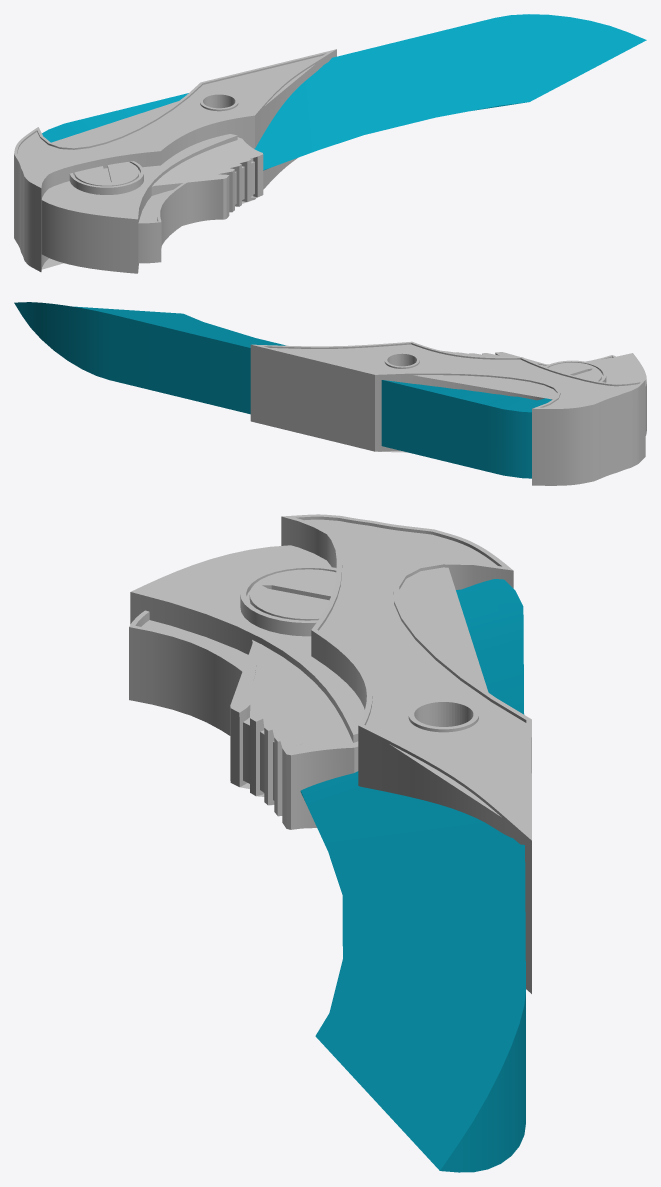
File: flipper_knife_left.obj
3 renders of one model, top to bottom at view 1: azimuth 30°, elevation 25°; view 2: azimuth 150°, elevation 25°; view 3: azimuth 270°, elevation 25°, orthographic. The views are drawn at different scales.
Parts seen in each view (by area): view 1: Slim_Left_Flipper_Cylinder.001; view 2: Slim_Left_Flipper_Cylinder.001; view 3: Slim_Left_Flipper_Cylinder.001.
Boxes of the visible parts, <box> form: Slim_Left_Flipper_Cylinder.001: <box>14,14,646,273</box>; Slim_Left_Flipper_Cylinder.001: <box>14,302,646,485</box>; Slim_Left_Flipper_Cylinder.001: <box>129,514,531,1172</box>.
Bounding box in the file's own units: 1.26 × 0.1563 × 0.3715.
